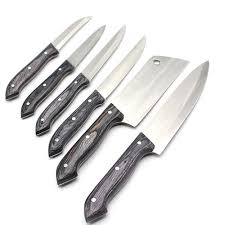knife: (81, 57, 213, 225), (44, 53, 194, 189), (42, 31, 148, 163), (31, 22, 127, 141), (18, 21, 110, 120), (4, 12, 96, 102)
